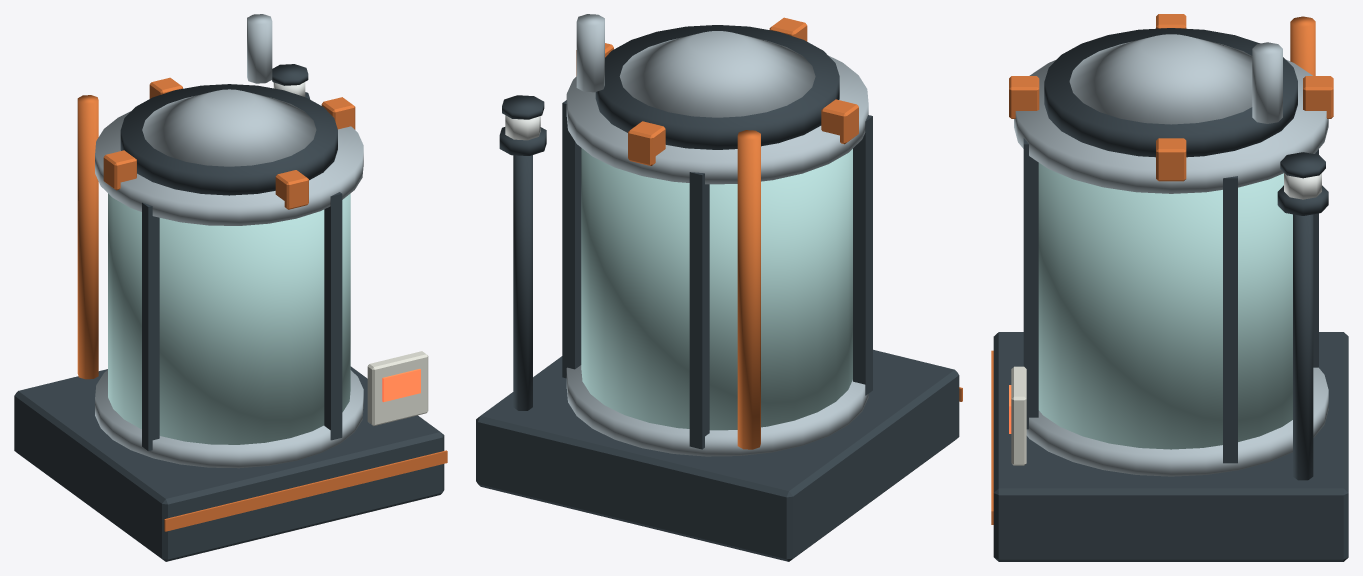
Rendered from goovat.glb.
3 views of the same model, side by side, from view 1: azimuth 30°, elevation 25°; view 2: azimuth 150°, elevation 25°; view 3: azimuth 270°, elevation 25° (orthographic). The views are drawn at different scales.
Visible parts, largest first — view 1: Vat, Lamp.003; view 2: Vat, Lamp.003; view 3: Vat, Lamp.003.
Boxes of the visible parts, x1=… form: Vat: x1=14, y1=14, x2=447, y2=561; Lamp.003: x1=272, y1=64, x2=310, y2=99; Vat: x1=476, y1=14, x2=962, y2=561; Lamp.003: x1=499, y1=95, x2=546, y2=410; Vat: x1=991, y1=14, x2=1348, y2=561; Lamp.003: x1=1277, y1=152, x2=1328, y2=480.
Size of the model in its own units: 1.5 by 2.07 by 1.41.
